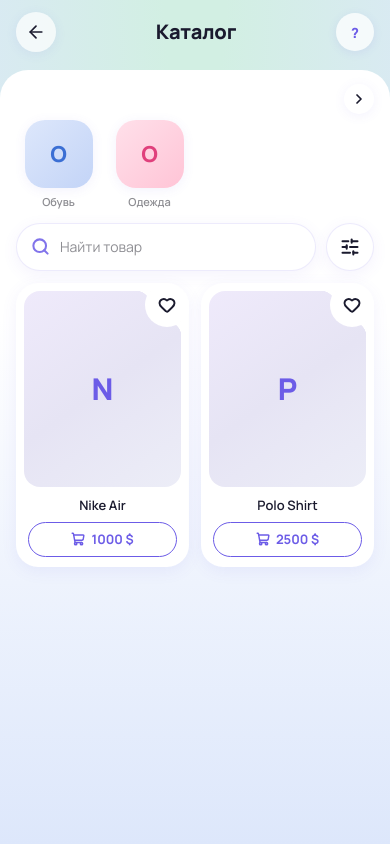
Test: CatalogView › bounds ещё грузятся → «Загрузка фильтра…», не «нет цен»
Step 1. Click the button named "Фильтры" → [350, 246], box [326,222,374,270]
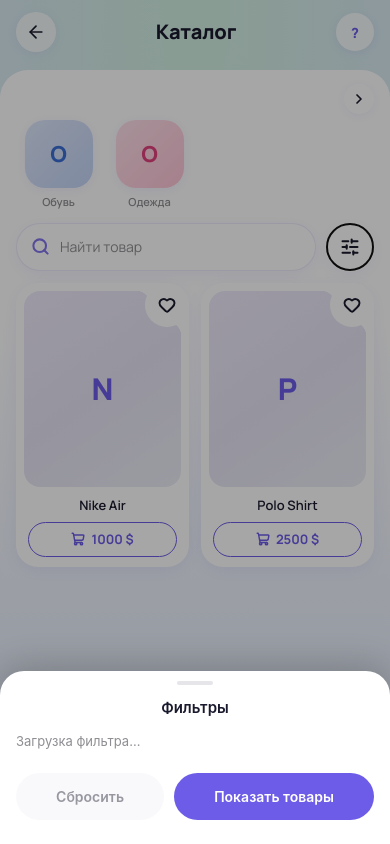
Expected: the text "Загрузка фильтра…" is shown, [16,732,140,748]
